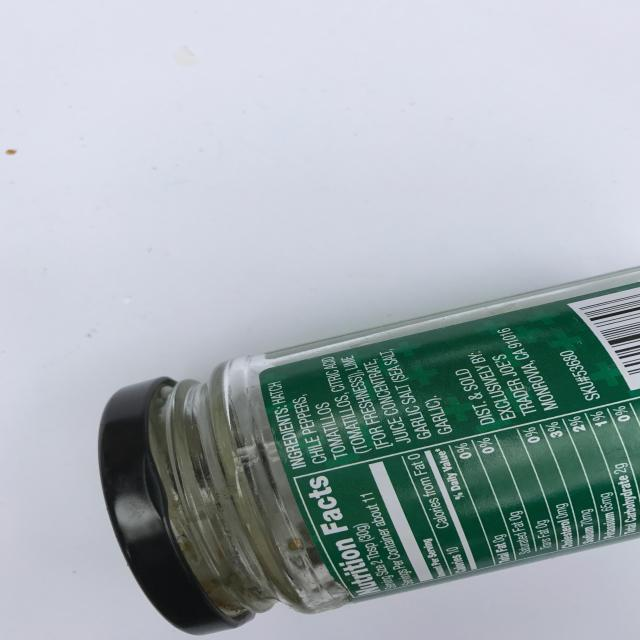glass: (97, 261, 640, 636)
